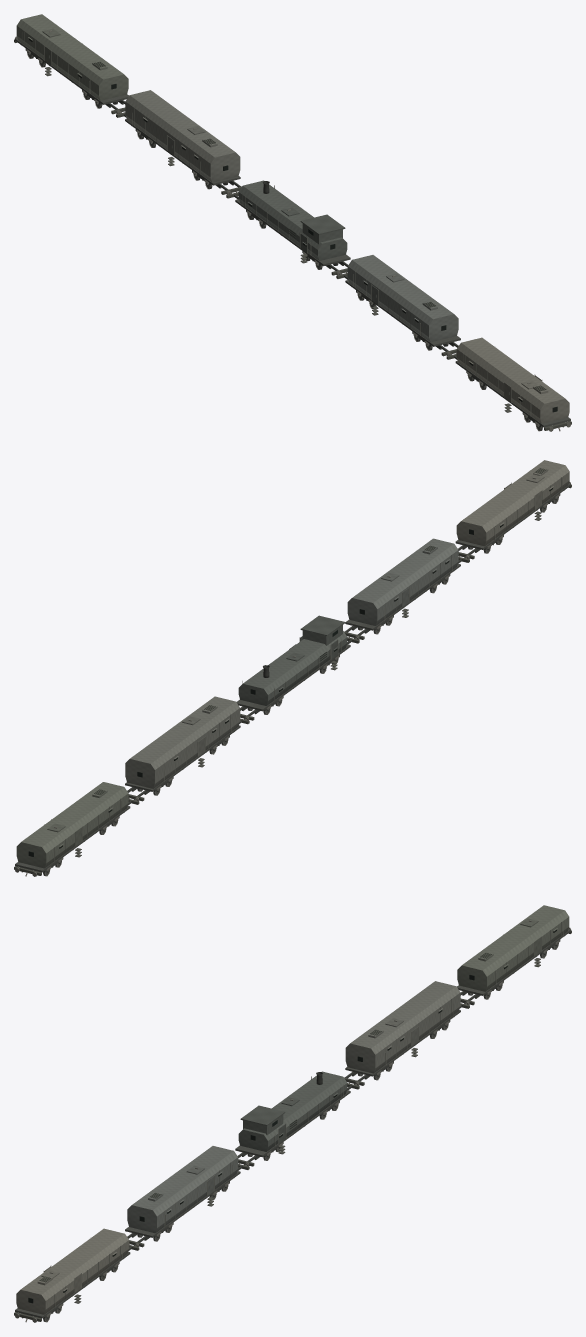
The model's file is m01_panzerzug_visual_lod1.glb.
3 views of the same model, one above another, from view 1: azimuth 30°, elevation 25°; view 2: azimuth 150°, elevation 25°; view 3: azimuth 330°, elevation 25° (orthographic).
Visible parts, largest first — view 1: armoured_plates, chassis_rims; view 2: armoured_plates, chassis_rims; view 3: armoured_plates, chassis_rims.
Part boxes in pixels (x1,y1,x2,y2): armoured_plates: [15, 14, 570, 427]; chassis_rims: [14, 30, 571, 431]; armoured_plates: [15, 460, 570, 872]; chassis_rims: [14, 477, 571, 876]; armoured_plates: [15, 905, 570, 1318]; chassis_rims: [14, 920, 571, 1322].
Size of the model in its own units: 3.42 by 3.88 by 92.22.
3 materials, 2 textured.
